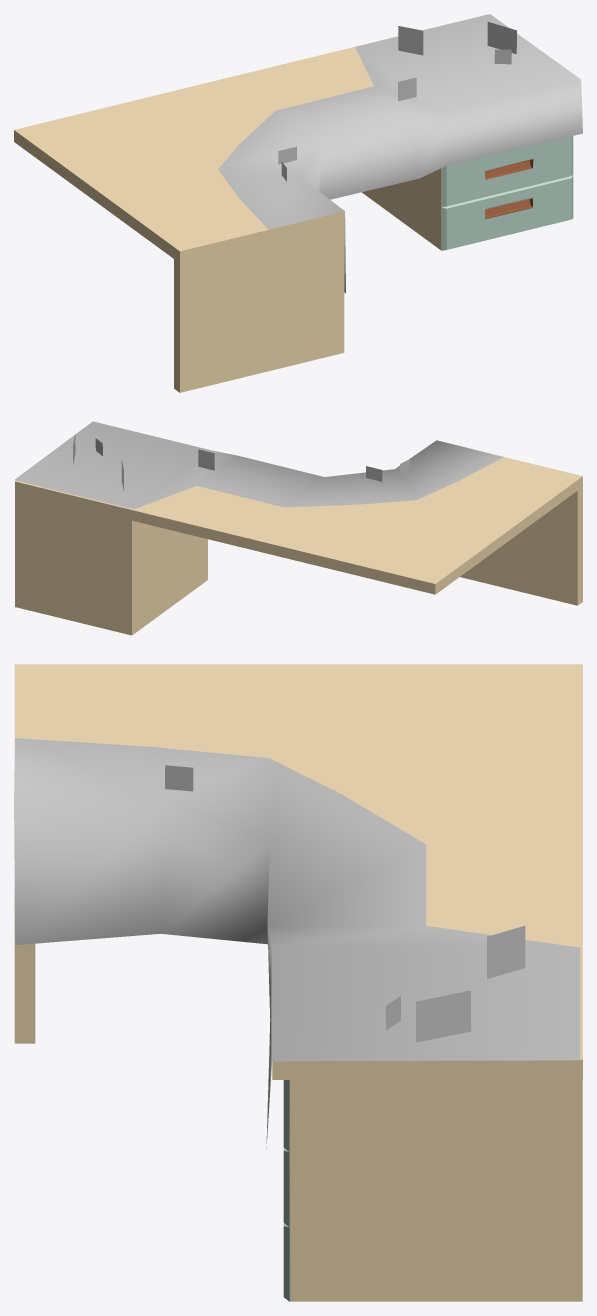
The model's file is scrivania_con_erba.fbx.
The picture shows the model from 3 angles, top to bottom: view 1: azimuth 30°, elevation 25°; view 2: azimuth 150°, elevation 25°; view 3: azimuth 270°, elevation 25°; orthographic projection. The views are drawn at different scales.
Visible parts, largest first — view 1: pCube3, pPlane9; view 2: pCube3, pPlane9; view 3: pCube3, pPlane9.
Boxes of the visible parts, x1,y1,x2,y2 form: pCube3: (14,14,573,392); pPlane9: (218,14,582,293); pCube3: (15,457,582,635); pPlane9: (14,421,503,509); pCube3: (14,664,582,1301); pPlane9: (14,738,580,1148).
Size of the model in its own units: 9.21 by 3.11 by 5.56.
